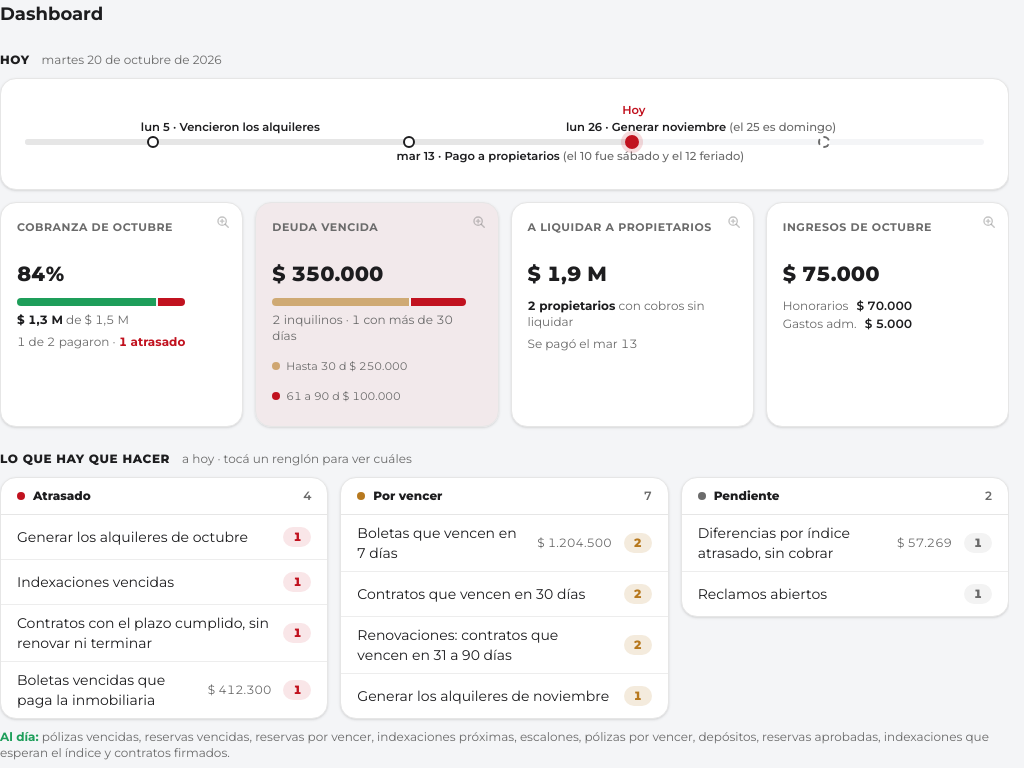
Test: TableroAlquileres en tres bloques (17/10/2026) › Lo que hay que hacer › regla 179: lo de hoy y lo de mañana va a «Por vencer»; lo de ayer, a «Atrasado»
Click the button "Boletas que vencen en 7 días $ 1.204.500 2": [504, 543] box [341,515,668,571]
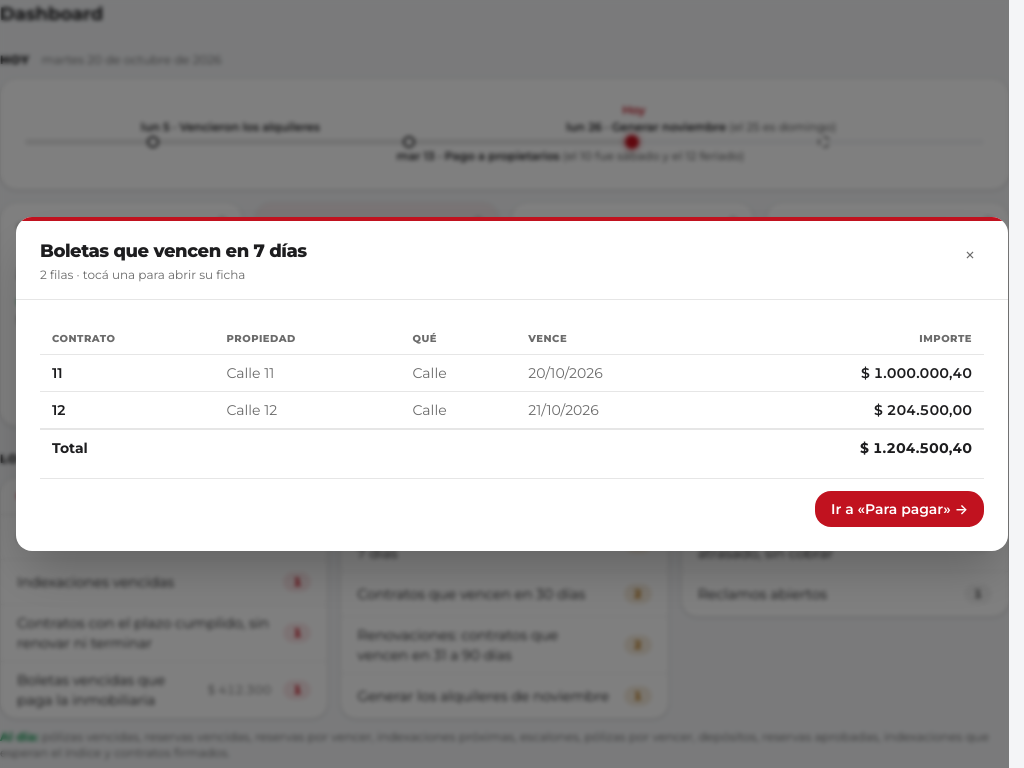
expect the text "11" is shown: met, box [52,364,63,382]
expect the text "12" is shown: met, box [52,401,66,419]
